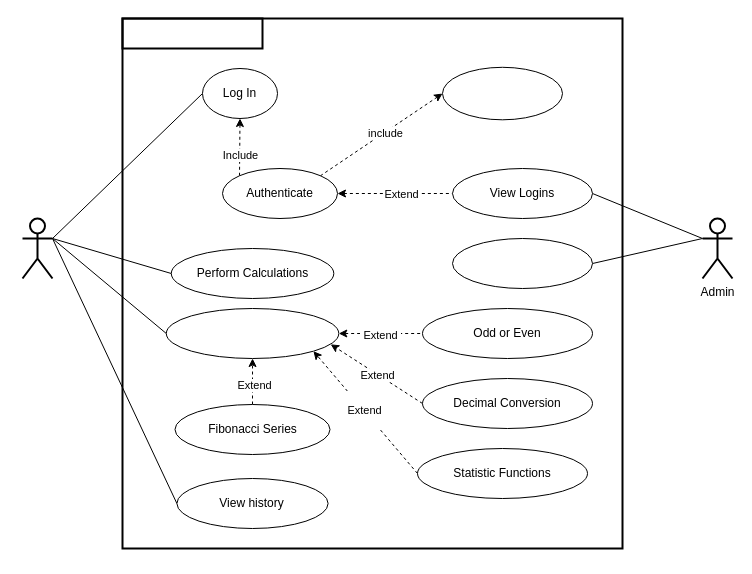
Some shapes in this 752 by 574 pixel diagram are drawn without their labels. The centre of each missing label's shape, as x and y in pixels:
"Create Users" belongs at (x=522, y=263).
"MODERN ACADEMY" belongs at (x=192, y=33).
"Perform Operations" belongs at (x=252, y=333).
"Scan Database" belongs at (x=502, y=93).
"Student" belongs at (x=37, y=248).
